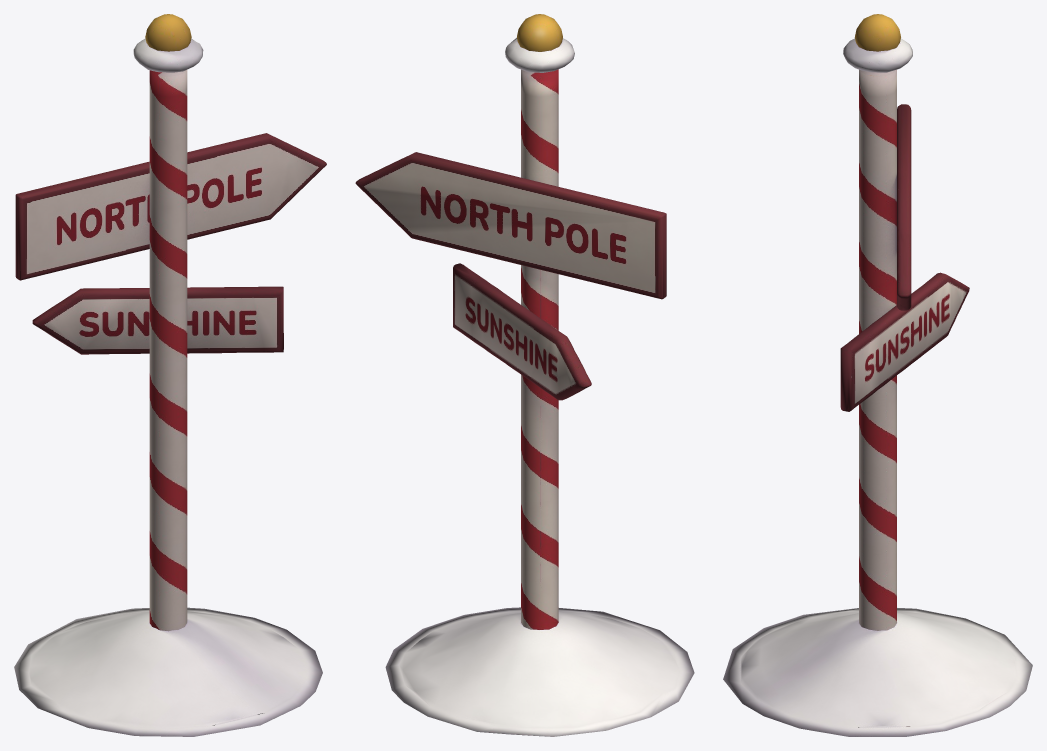
Rendered from north_pole_sign.glb.
3 renders of one model, left to right at view 1: azimuth 30°, elevation 25°; view 2: azimuth 150°, elevation 25°; view 3: azimuth 270°, elevation 25°, orthographic.
Parts seen in each view (by area): view 1: Snow, Pole, SignTop, SignLow, SnowCap, Topper; view 2: Snow, SignTop, Pole, SignLow, SnowCap, Topper; view 3: Snow, Pole, SignLow, SignTop, SnowCap, Topper.
Part boxes in pixels (left/top/right/bottom): Snow: left=14, top=607, right=322, bottom=736; Pole: left=149, top=70, right=187, bottom=631; SignTop: left=15, top=133, right=326, bottom=280; SignLow: left=32, top=286, right=283, bottom=354; SnowCap: left=133, top=38, right=203, bottom=72; Topper: left=145, top=14, right=191, bottom=51; Snow: left=385, top=607, right=694, bottom=736; SignTop: left=355, top=152, right=666, bottom=299; Pole: left=521, top=69, right=558, bottom=629; SignLow: left=453, top=263, right=591, bottom=400; SnowCap: left=505, top=38, right=574, bottom=72; Topper: left=517, top=14, right=562, bottom=51; Snow: left=723, top=608, right=1032, bottom=736; Pole: left=859, top=69, right=896, bottom=630; SignLow: left=840, top=272, right=969, bottom=411; SignTop: left=897, top=104, right=911, bottom=310; SnowCap: left=843, top=38, right=912, bottom=72; Topper: left=854, top=14, right=900, bottom=51.
Bounding box in the file's own units: 1.23 × 2.5 × 1.07.
Materials: 1 (1 with a texture image).
